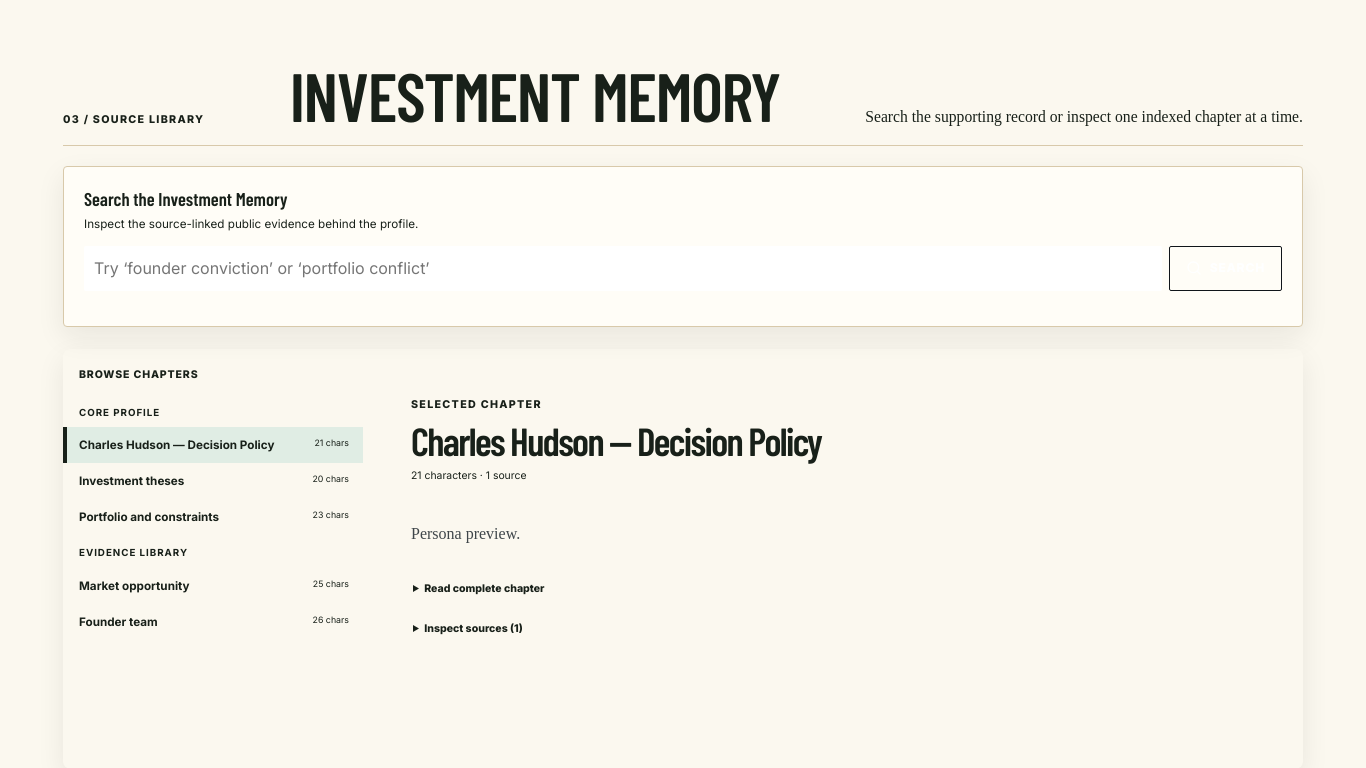
Scenario: InvestmentMemoryLibrary › switches the single reader without retaining the previous chapter
This screenshot has width=1366, height=768.
Click the button with aria-label "Open Market opportunity chapter".
click(134, 586)  # box [63,568,363,604]
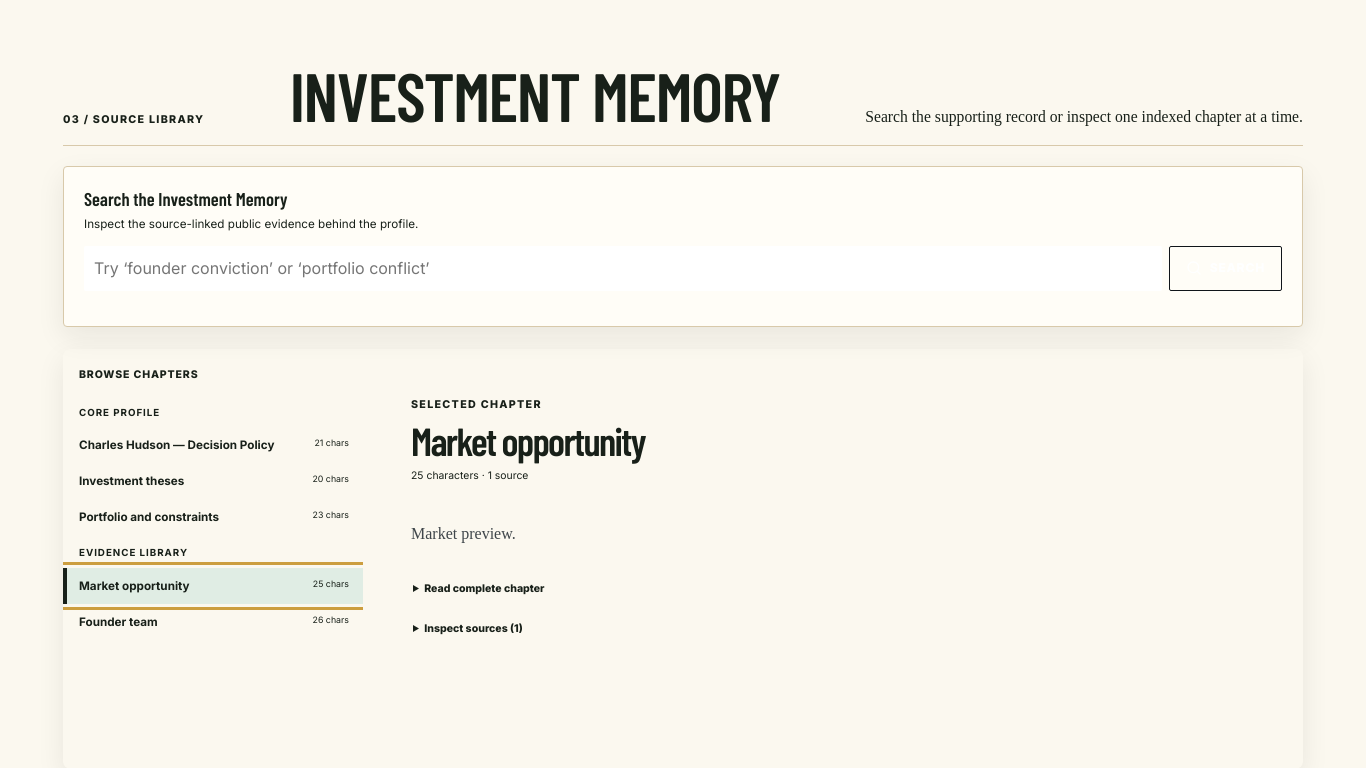
Now the element named "Investment Memory chapter: Market opportunity" is shown, box [411,398,645,635]
Now the text "Market preview." is shown, box [411,525,516,542]
Now the text "Persona preview." is gone
